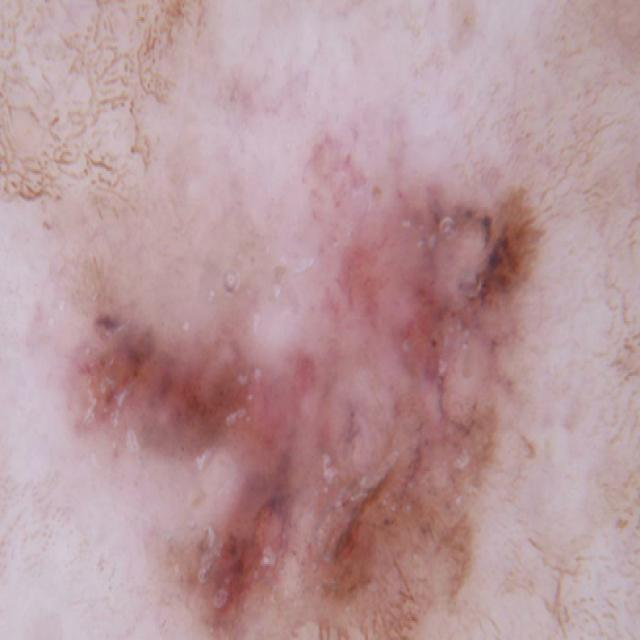Carcinoma: (30, 85, 626, 640)
